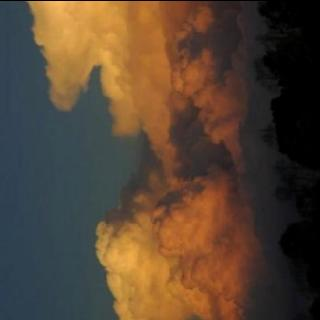Cumulonimbus: (1, 0, 274, 320)
